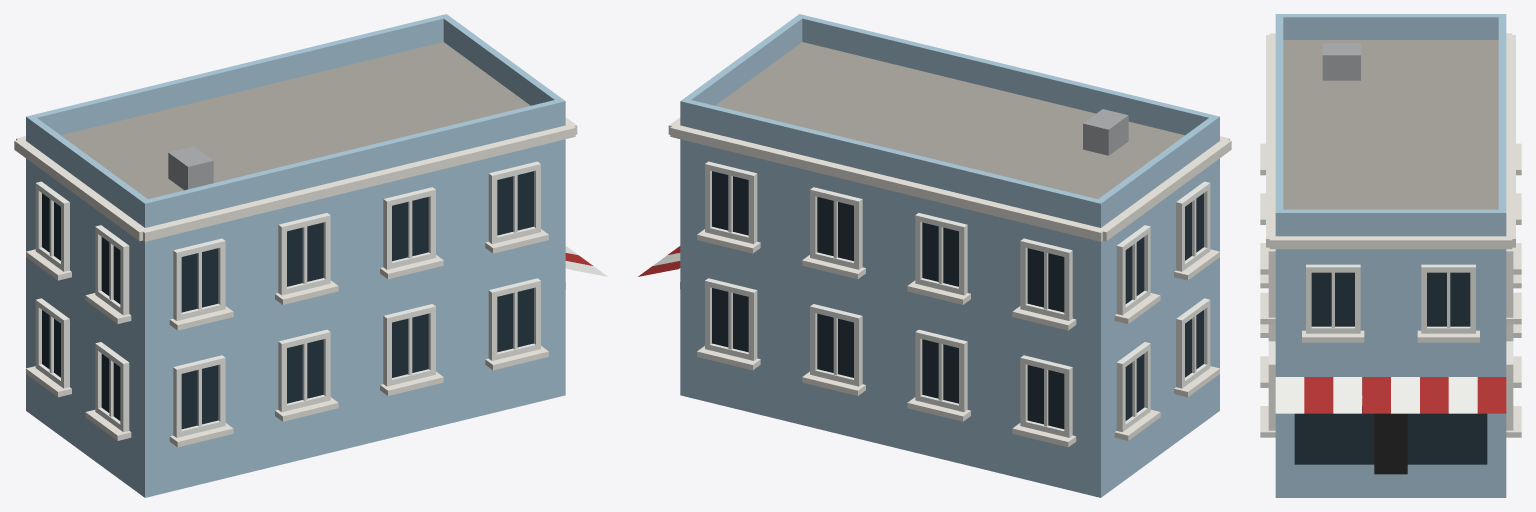
3 renders of one model, left to right at view 1: azimuth 30°, elevation 25°; view 2: azimuth 150°, elevation 25°; view 3: azimuth 270°, elevation 25°, orthographic. The views are drawn at different scales.
Parts seen in each view (by area): view 1: b8316; view 2: b8316; view 3: b8316.
Part boxes in pixels (bbox=[...]): b8316: bbox=[14, 14, 607, 497]; b8316: bbox=[638, 14, 1231, 497]; b8316: bbox=[1260, 14, 1521, 497].
Bounding box in the file's own units: 5559 × 3304 × 2724.
